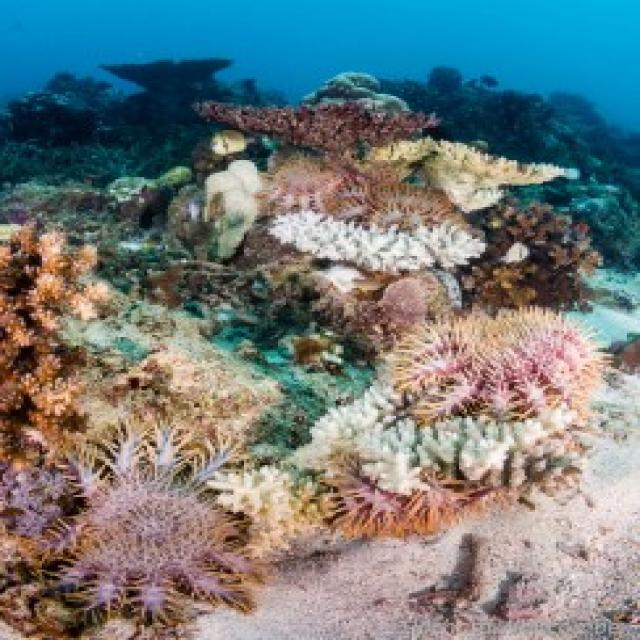Bleached: (371, 140, 575, 212), (271, 210, 484, 272)
Healthy: (292, 310, 604, 536), (48, 430, 258, 639), (1, 227, 106, 468), (132, 342, 279, 472), (1, 462, 106, 639), (263, 150, 460, 223), (200, 101, 436, 157)
